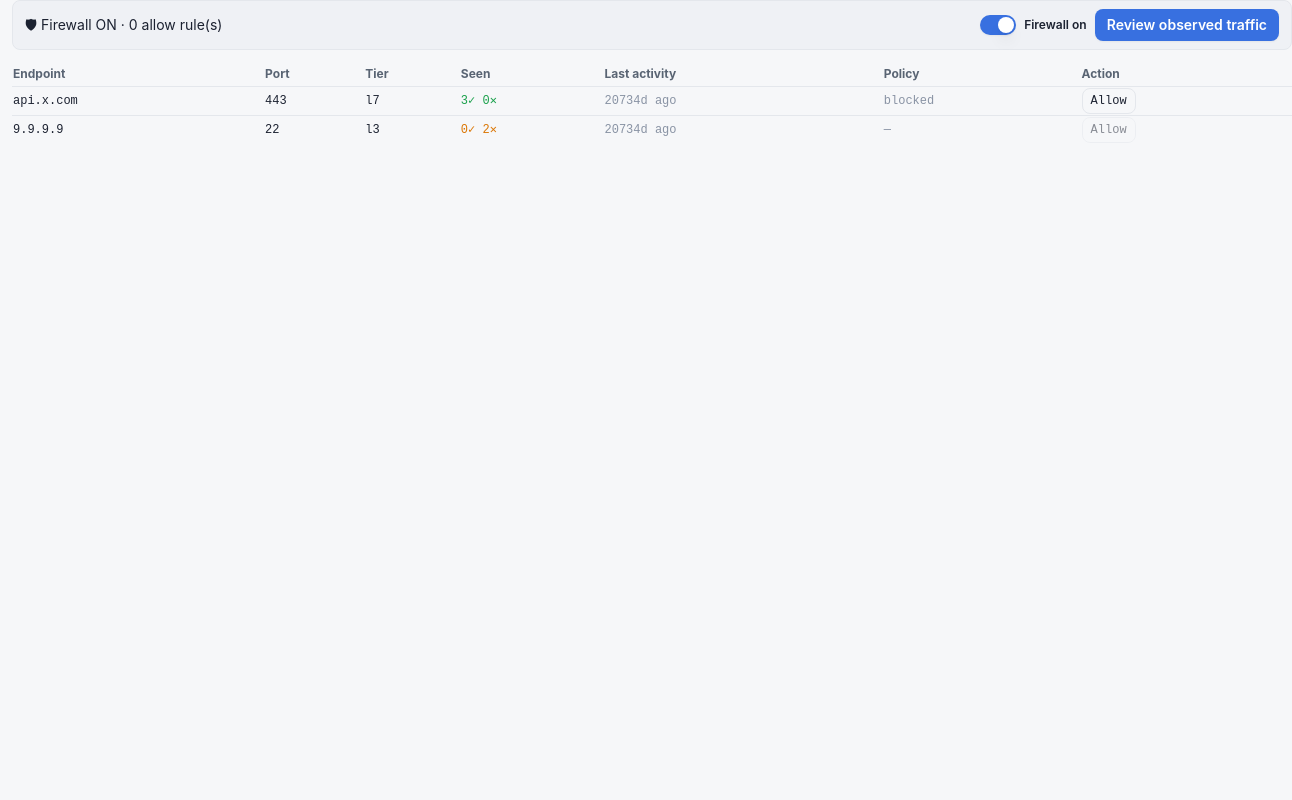
Scenario: NetlogView › pauses polling while the pointer hovers the table
This screenshot has width=1292, height=800.
# Let a couple of poll ticks accrue.
Hover over the table at (652, 103), box [12, 62, 1291, 144]
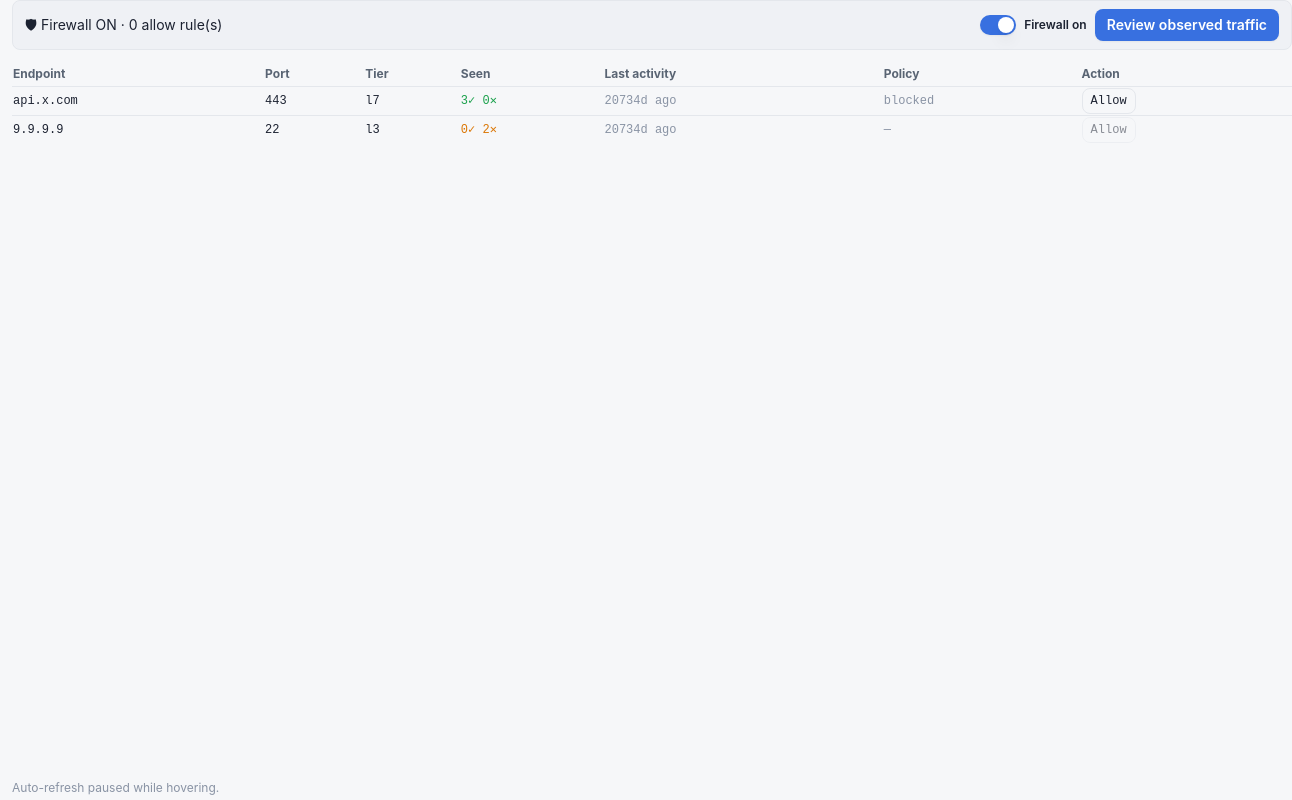
expect the text "Auto-refresh paused while hovering." is shown: met, box [12, 780, 219, 795]
# Leaving resumes polling and clears the hint.
Move the pointer off the table, box [12, 62, 1291, 144]
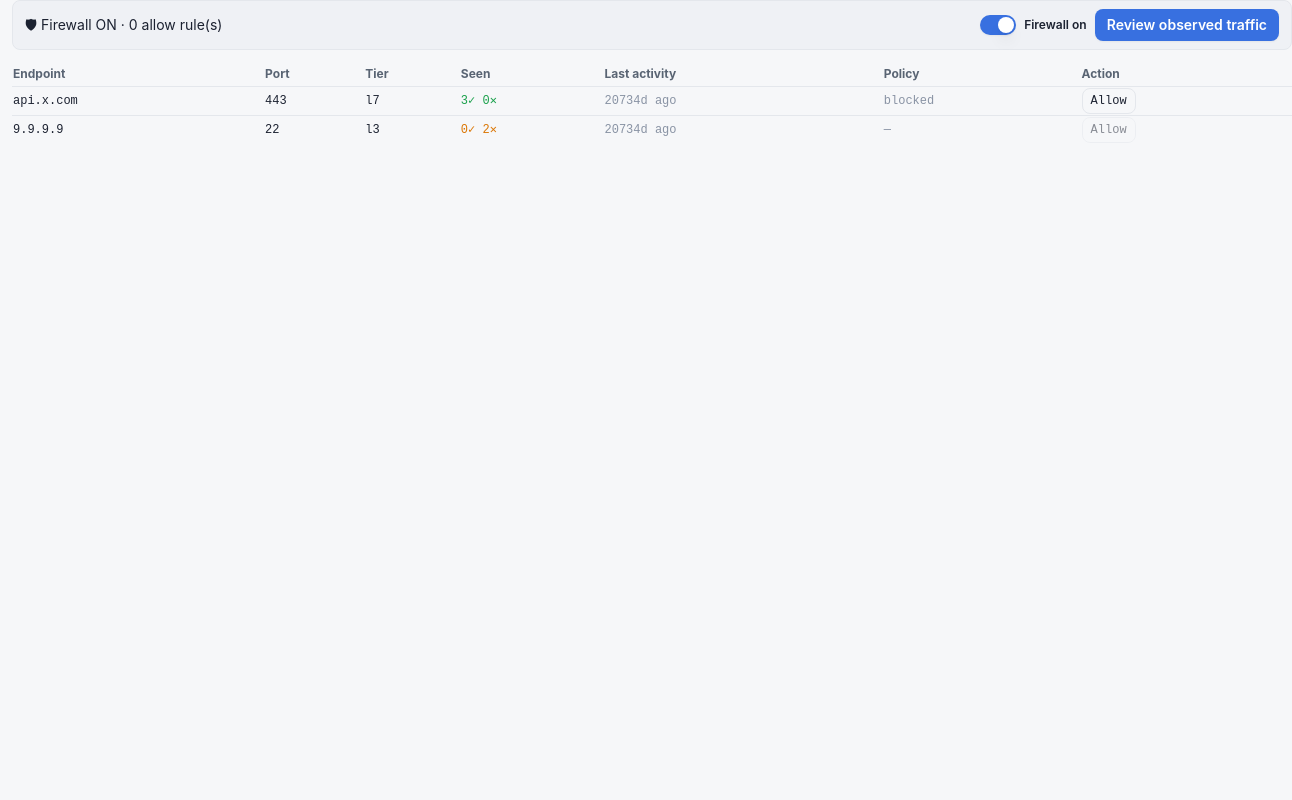
expect the text "Auto-refresh paused" is gone: met
